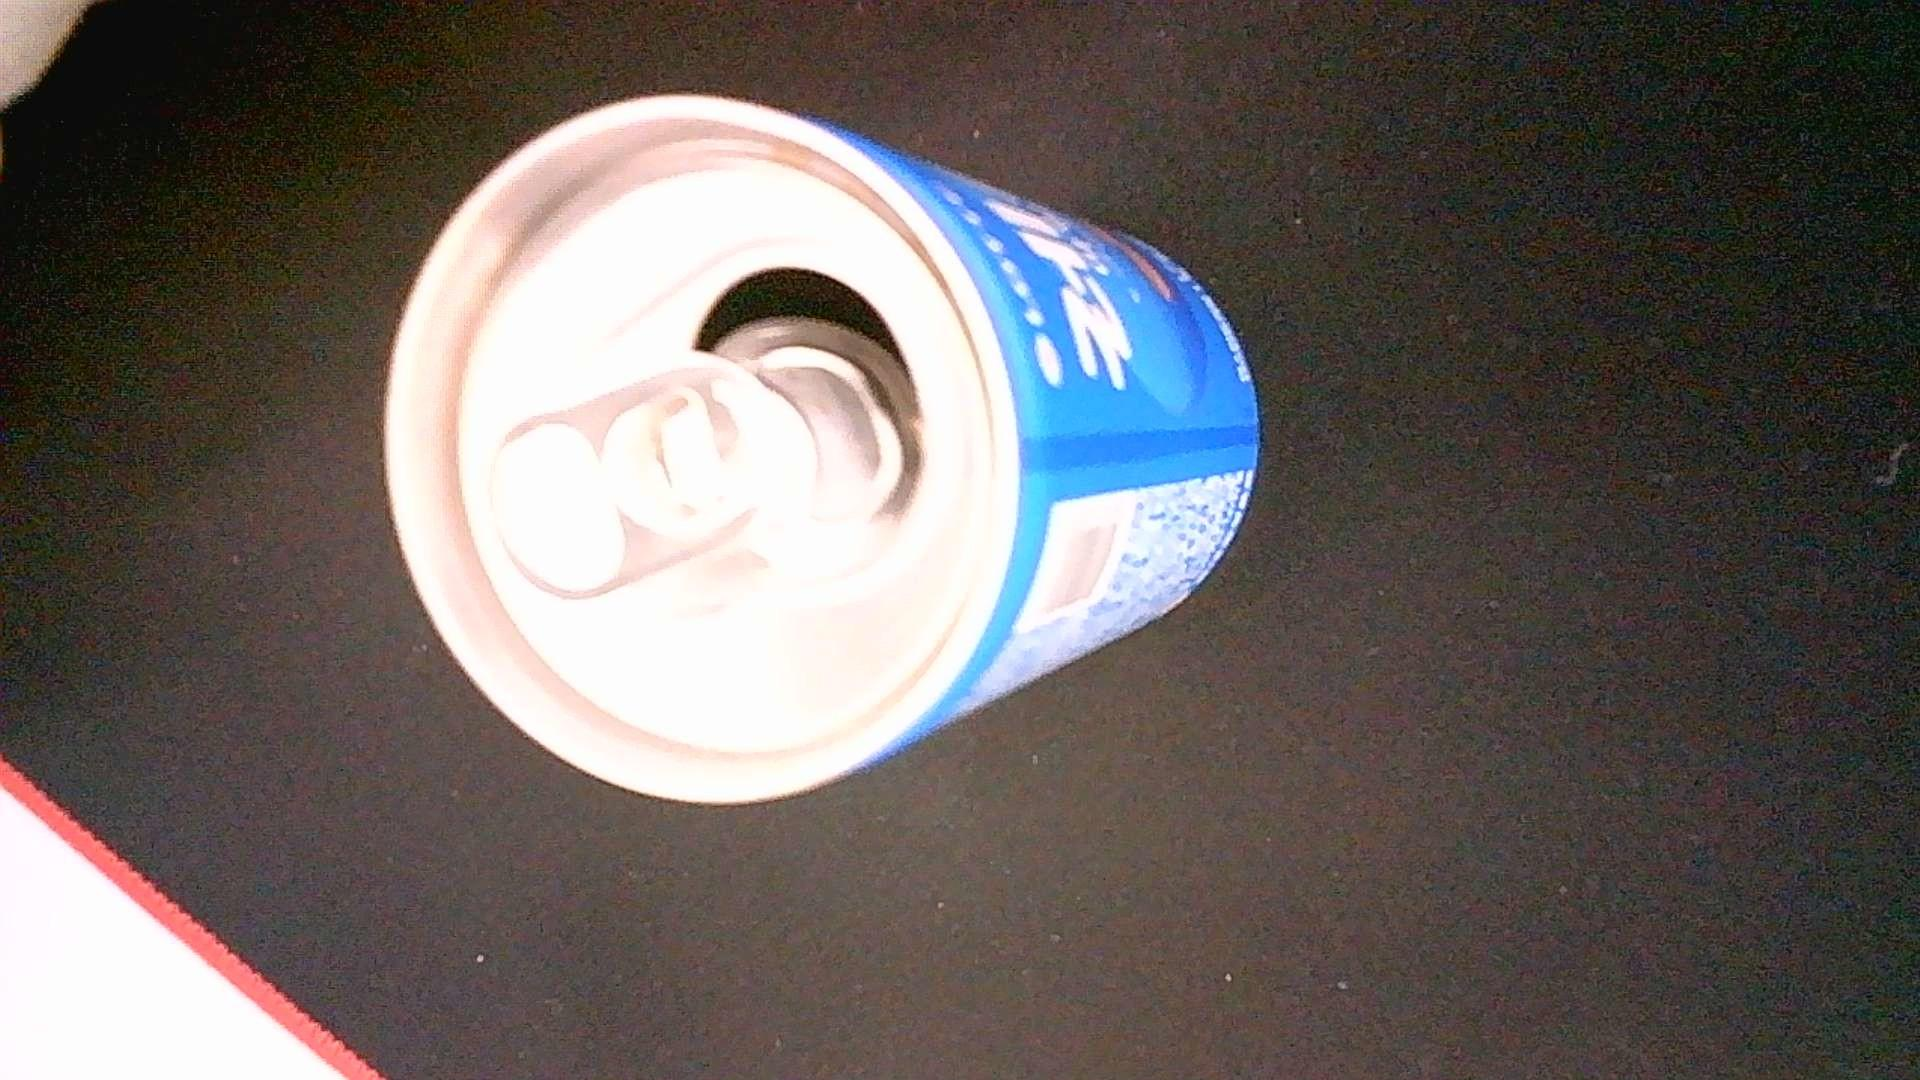letsbe: (380, 90, 1262, 806)
